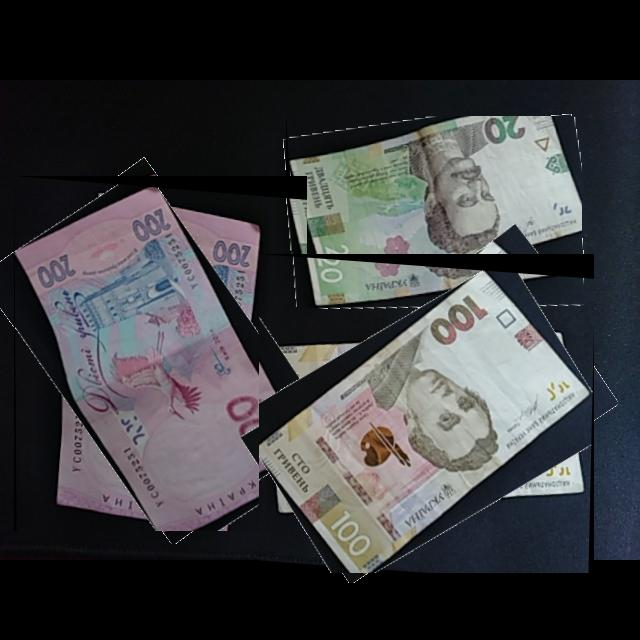100uah: (259, 268, 594, 574)
200uah: (15, 185, 308, 532)
20uah: (289, 116, 583, 302)
